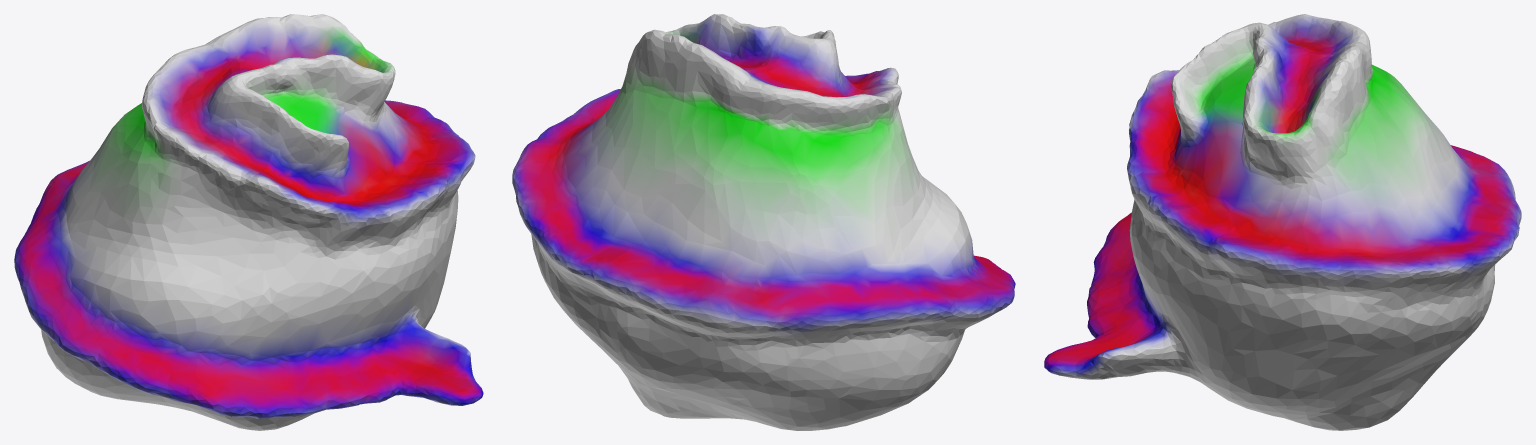
File: Floating Island SpiralExtrude.fbx
3 renders of one model, left to right at view 1: azimuth 30°, elevation 25°; view 2: azimuth 150°, elevation 25°; view 3: azimuth 270°, elevation 25°, orthographic.
Parts seen in each view (by area): view 1: Sphere; view 2: Sphere; view 3: Sphere.
Boxes of the visible parts, <box> form: Sphere: <box>14,14,483,430</box>; Sphere: <box>512,14,1015,430</box>; Sphere: <box>1044,14,1521,430</box>.
Size of the model in its own units: 237 by 195 by 229.
